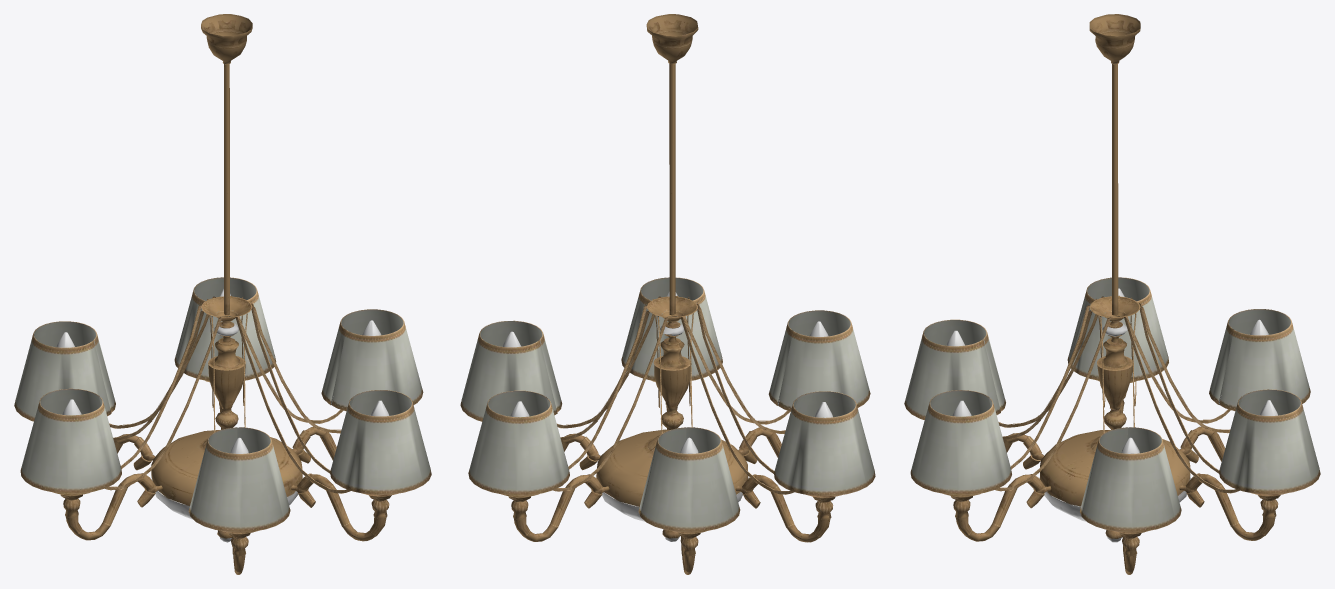
Rendered from chandelier2.glb.
The picture shows the model from 3 angles, left to right: view 1: azimuth 30°, elevation 25°; view 2: azimuth 150°, elevation 25°; view 3: azimuth 270°, elevation 25°; orthographic projection.
Parts seen in each view (by area): view 1: Chandelier_02; view 2: Chandelier_02; view 3: Chandelier_02.
Boxes of the visible parts, left/top/right/bottom form: Chandelier_02: left=14, top=14, right=431, bottom=574; Chandelier_02: left=460, top=14, right=875, bottom=574; Chandelier_02: left=904, top=14, right=1320, bottom=574.
Size of the model in its own units: 0.6792 by 0.848 by 0.6194.
Materials: 2 (1 with a texture image).
